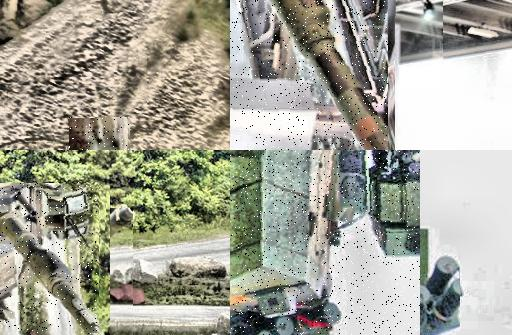tanks: (231, 151, 421, 335), (271, 1, 389, 151), (1, 184, 99, 335), (71, 119, 130, 151)
